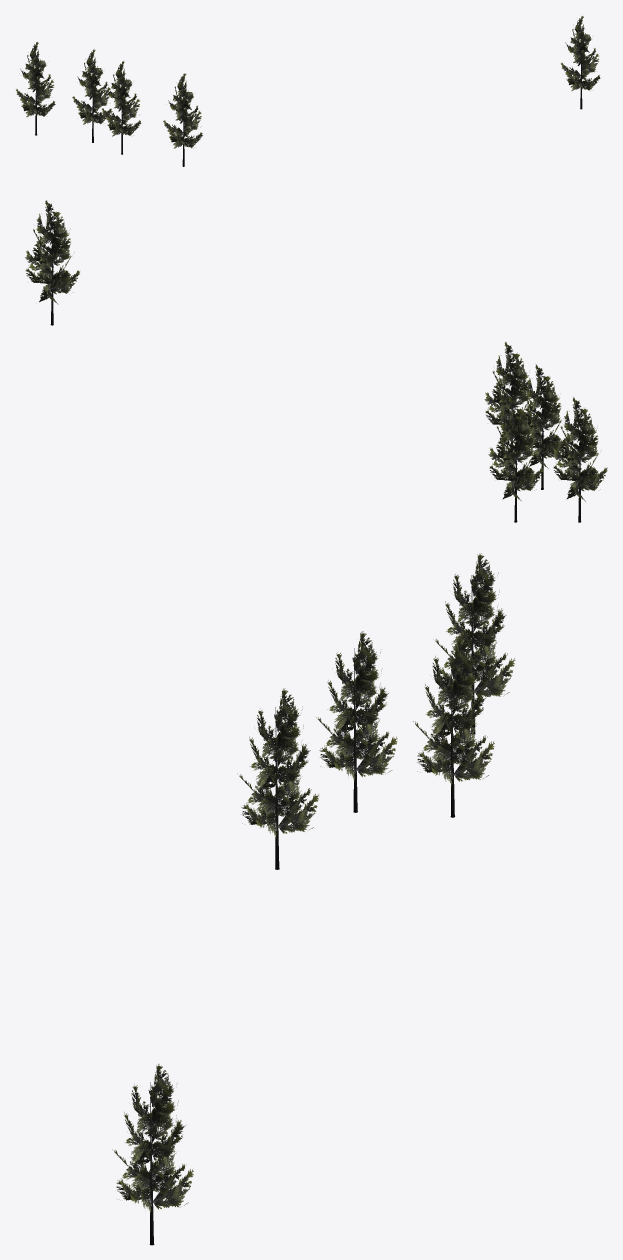
The model's file is trees_c1.fbx.
3 views of the same model, one above another, from view 1: azimuth 30°, elevation 25°; view 2: azimuth 150°, elevation 25°; view 3: azimuth 270°, elevation 25° (orthographic). The views are drawn at different scales.
Visible parts, largest first — view 1: trees_c1; view 2: trees_c1; view 3: trees_c1.
Boxes of the visible parts, <box> form: trees_c1: <box>16,16,600,166</box>; trees_c1: <box>25,200,607,522</box>; trees_c1: <box>112,553,515,1245</box>.
Bounding box in the file's own units: 11177 × 2550 × 3990.
Materials: 2 (1 with a texture image).
